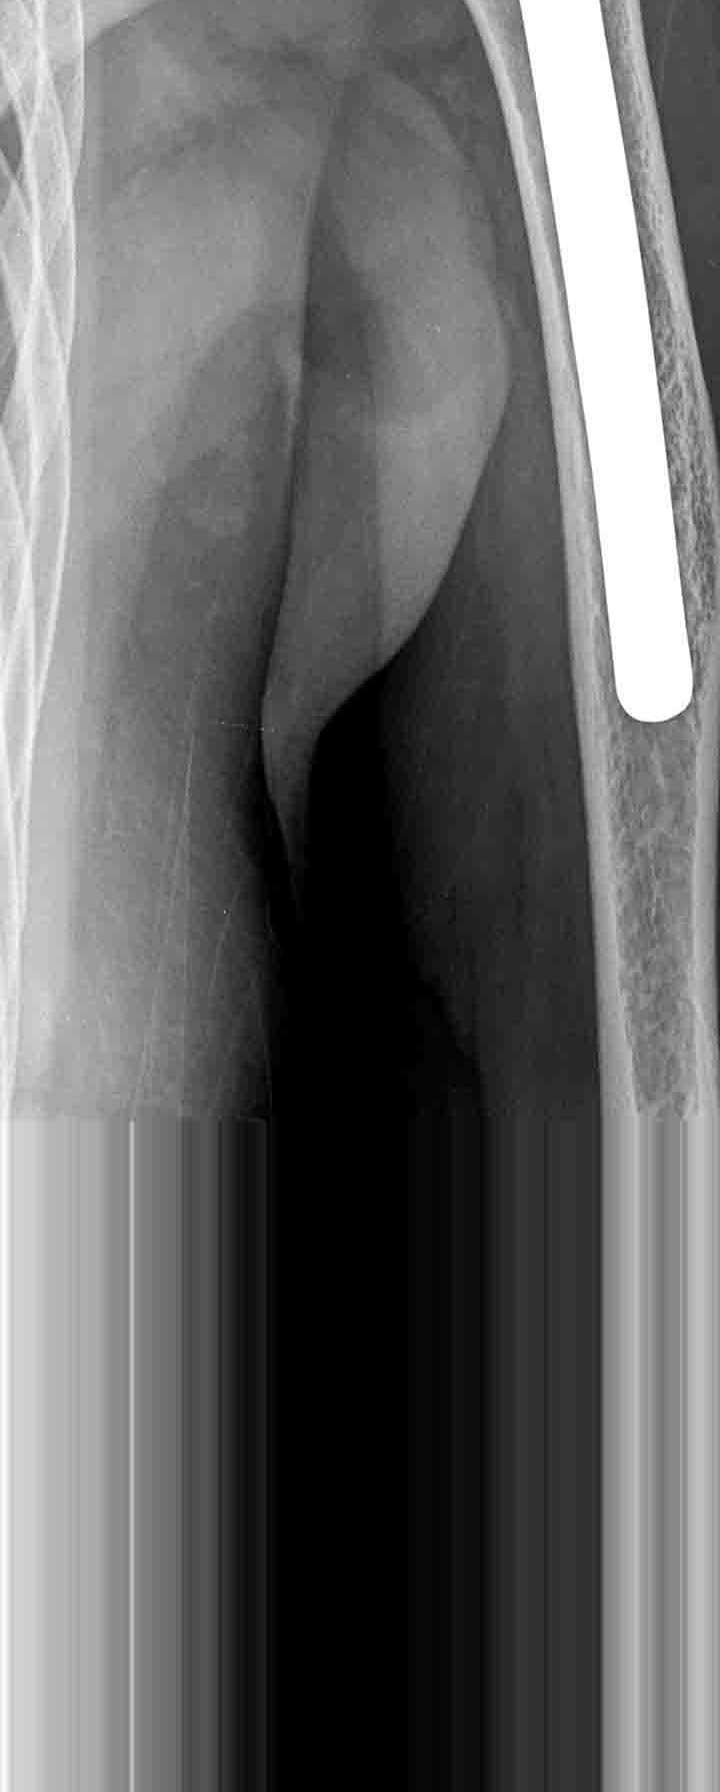Shoulder-Reverse-DJO: (446, 1, 703, 725)
